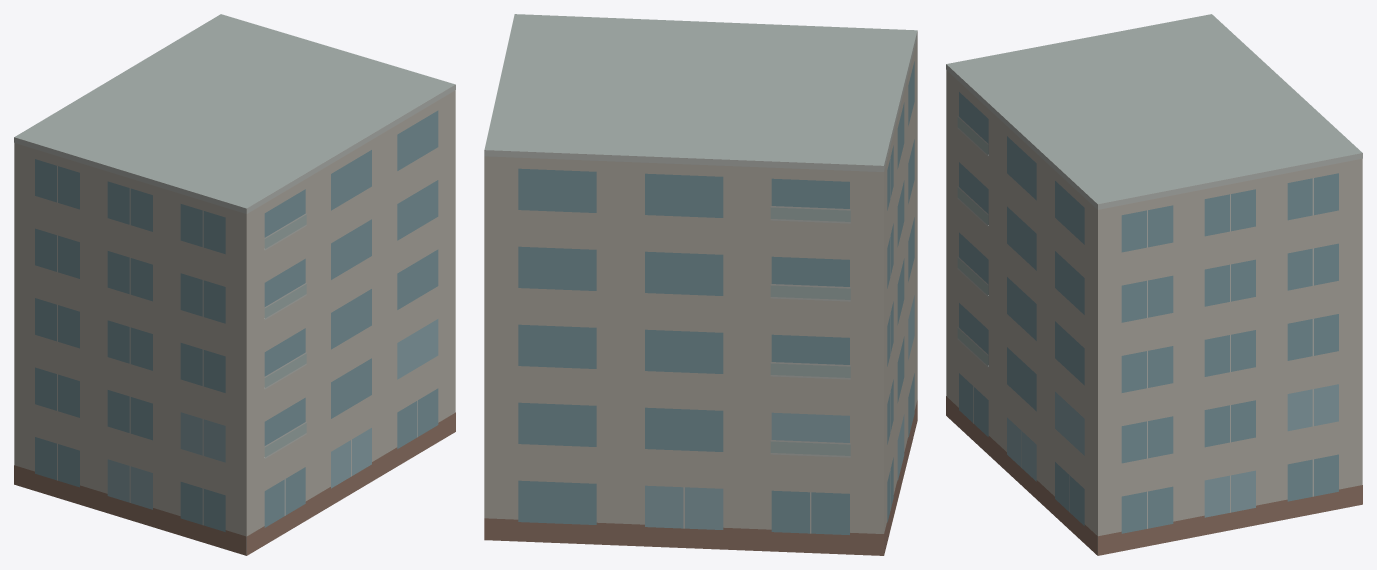
The model's file is survey-upis-32758084.glb.
3 views of the same model, side by side, from view 1: azimuth 30°, elevation 25°; view 2: azimuth 150°, elevation 25°; view 3: azimuth 270°, elevation 25° (orthographic). The views are drawn at different scales.
Visible parts, largest first — view 1: survey-upis-32758084.tmp; view 2: survey-upis-32758084.tmp; view 3: survey-upis-32758084.tmp.
Part boxes in pixels (<box>): survey-upis-32758084.tmp: <box>14,14,455,555</box>; survey-upis-32758084.tmp: <box>484,14,917,555</box>; survey-upis-32758084.tmp: <box>946,14,1362,555</box>.
Size of the model in its own units: 17.71 by 15.25 by 16.39.
